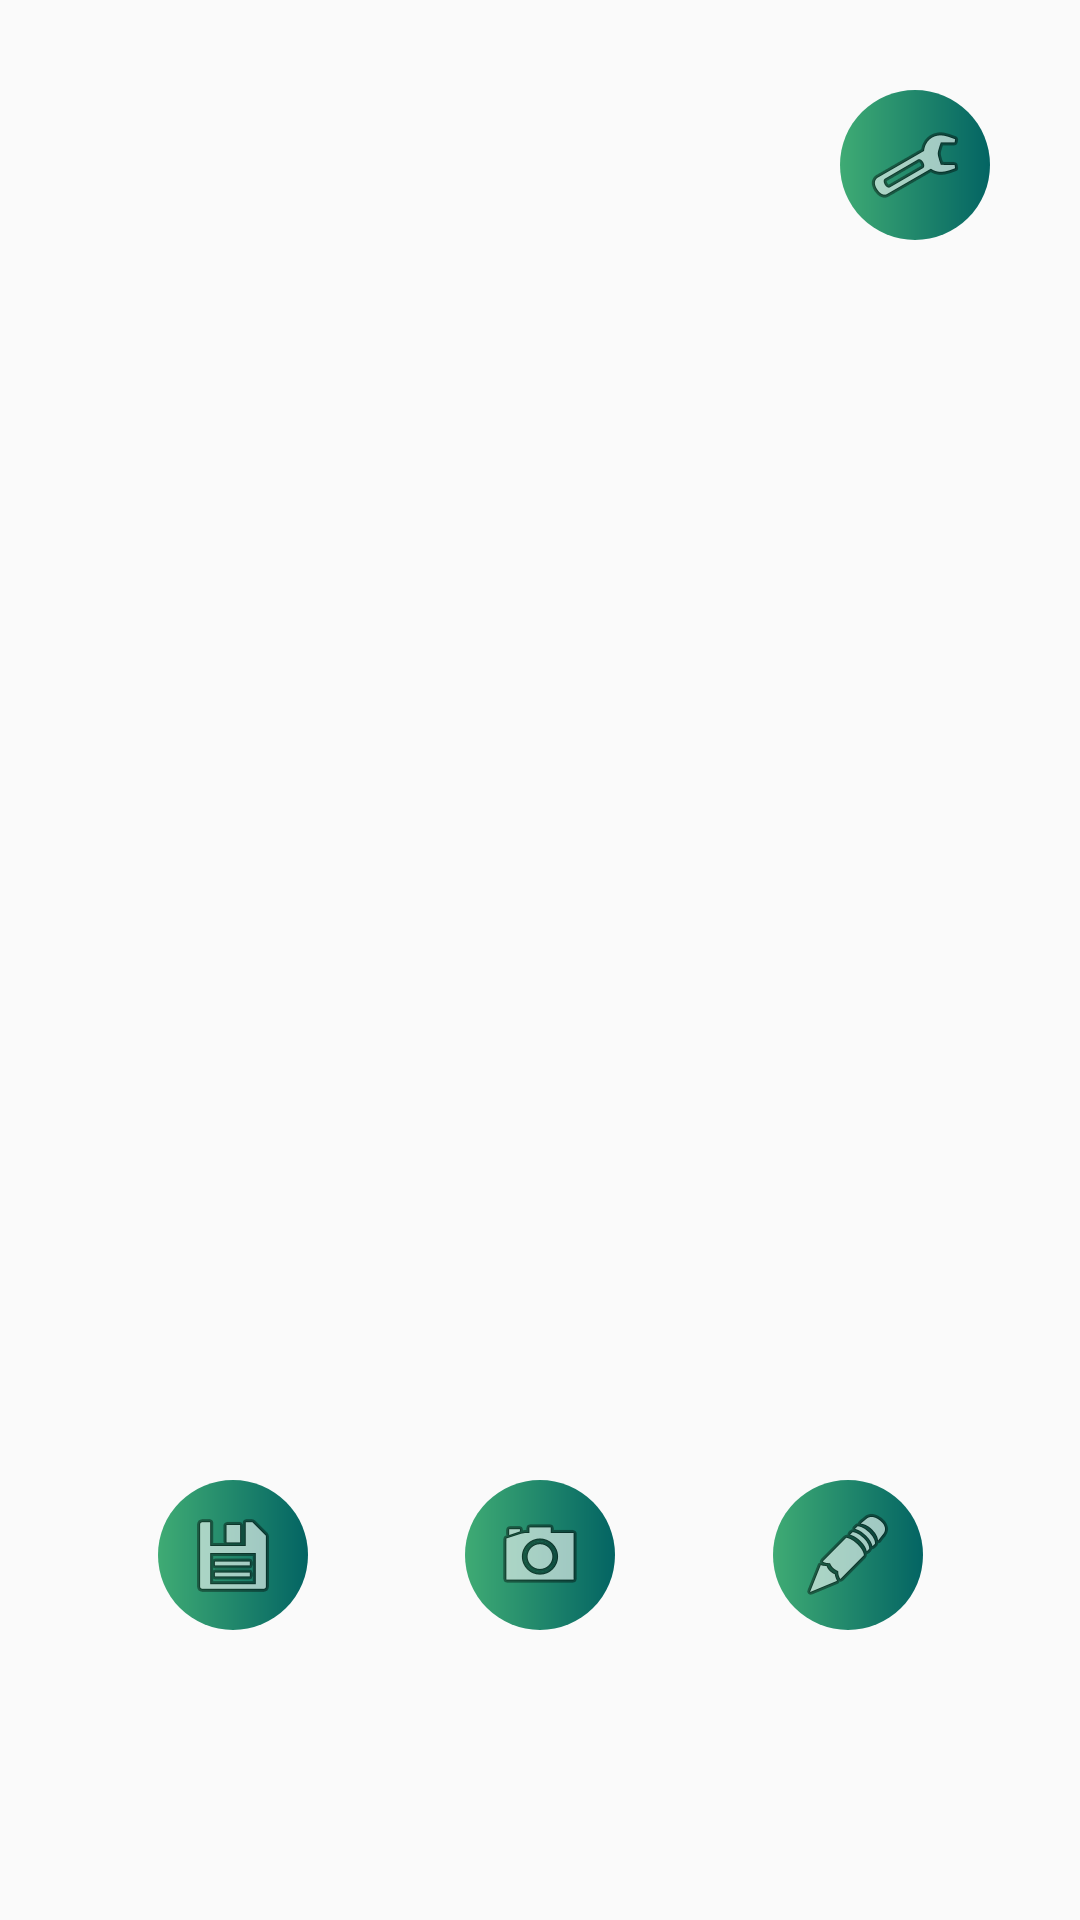

Where to tap for icons on this 1080px×1920px app screen, as (x=x, y=y):
camera: (x=540, y=1555)
edit: (x=848, y=1555)
manage: (x=915, y=165)
save: (x=233, y=1555)
